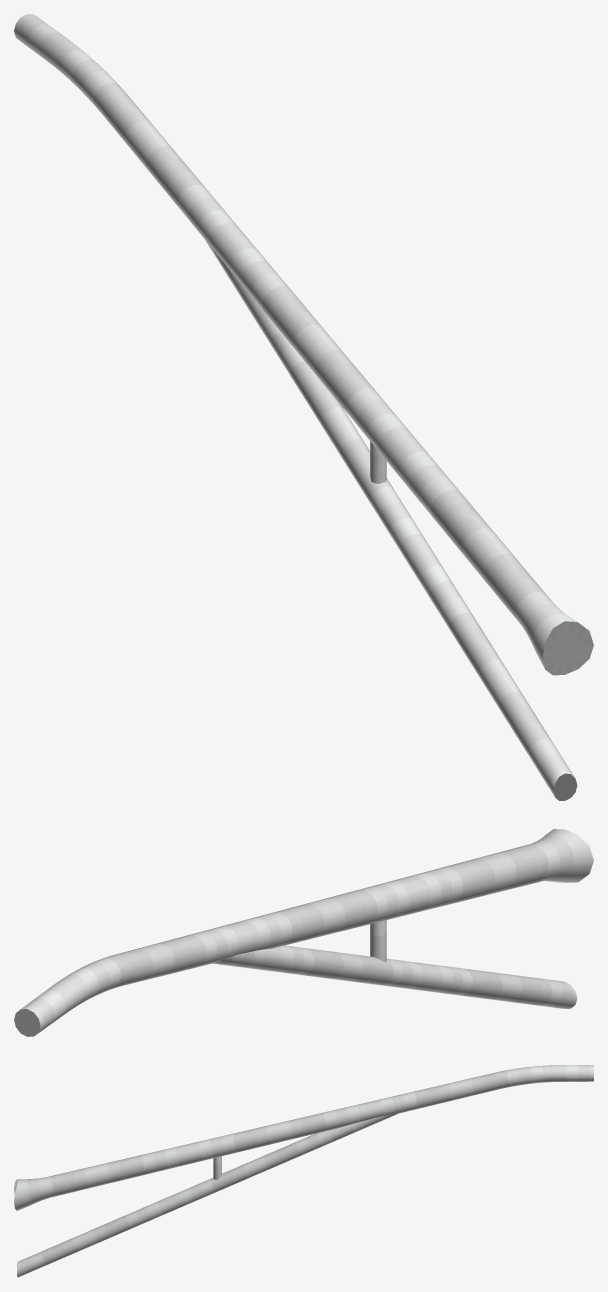
File: luminairearm_truss15ftstraight_inv.obj
The picture shows the model from 3 angles, top to bottom: view 1: azimuth 30°, elevation 25°; view 2: azimuth 150°, elevation 25°; view 3: azimuth 270°, elevation 25°; orthographic projection. The views are drawn at different scales.
Parts seen in each view (by area): view 1: luminairearm_truss15ftstraight_inv; view 2: luminairearm_truss15ftstraight_inv; view 3: luminairearm_truss15ftstraight_inv.
Boxes of the visible parts, box(x1,y1,x2,y2) form: luminairearm_truss15ftstraight_inv: box(14, 14, 593, 800); luminairearm_truss15ftstraight_inv: box(14, 829, 593, 1036); luminairearm_truss15ftstraight_inv: box(14, 1065, 593, 1277).
Bounding box in the file's own units: 0.0547 × 0.4015 × 1.
